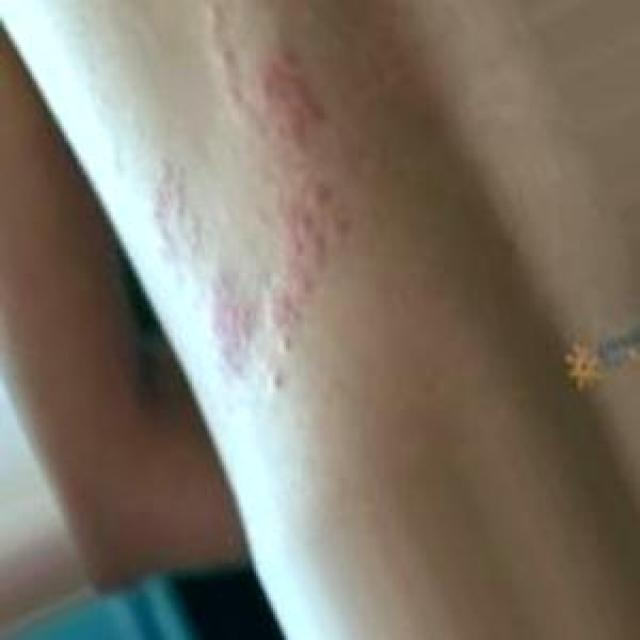Shingles: (208, 54, 338, 395), (148, 152, 206, 285)
